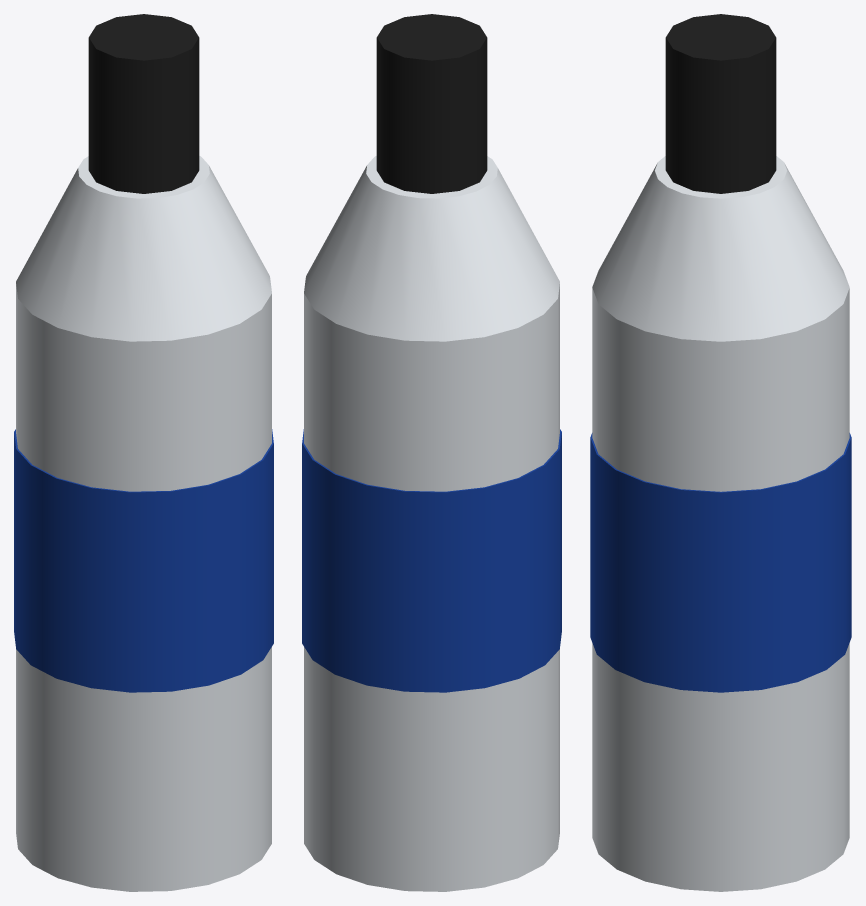
The model's file is botella.obj.
3 views of the same model, side by side, from view 1: azimuth 30°, elevation 25°; view 2: azimuth 150°, elevation 25°; view 3: azimuth 270°, elevation 25° (orthographic).
Parts seen in each view (by area): view 1: botella; view 2: botella; view 3: botella.
Part boxes in pixels (box(x1,y1,x2,y2)): botella: box(14, 14, 273, 891); botella: box(302, 14, 561, 891); botella: box(590, 14, 851, 891).
Size of the model in its own units: 0.071 by 0.24 by 0.071.
1 material, 1 textured.
